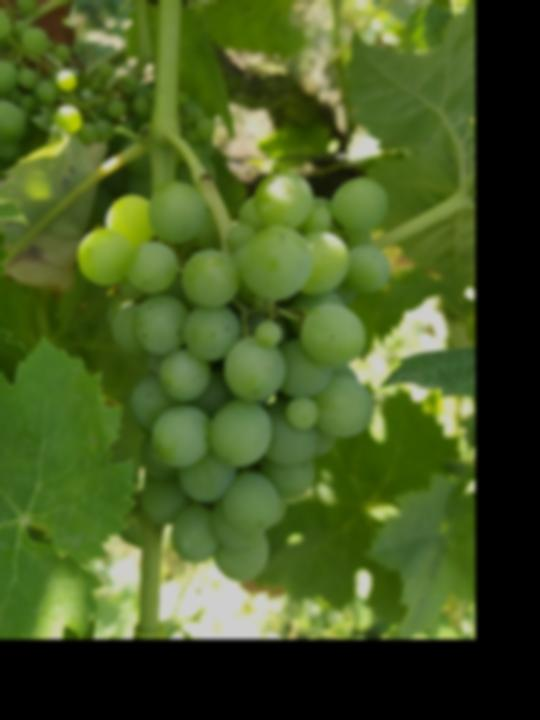grape: (75, 170, 392, 581)
